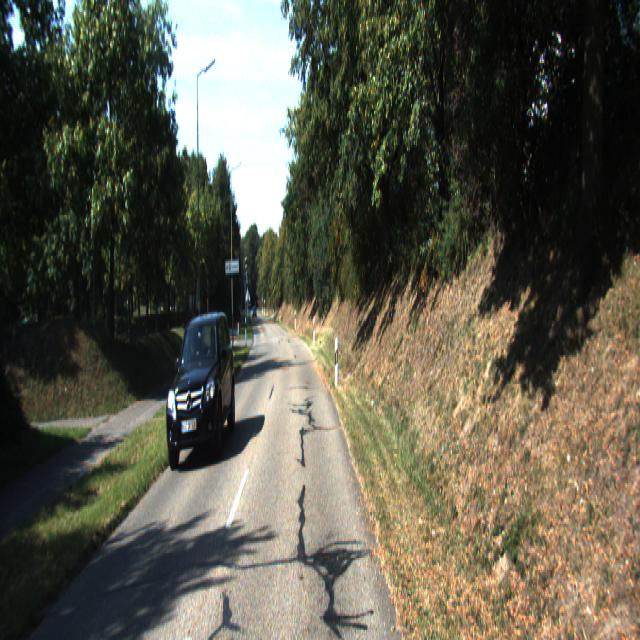Car: (166, 309, 237, 473)
